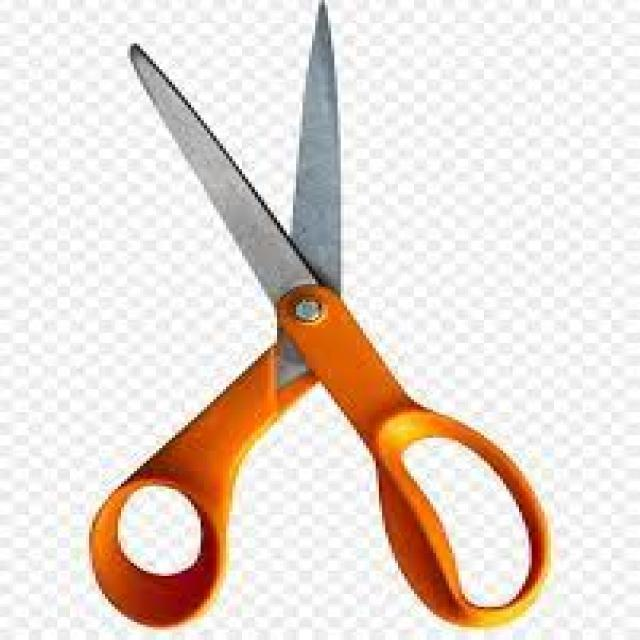Scissors: (73, 0, 562, 640)
